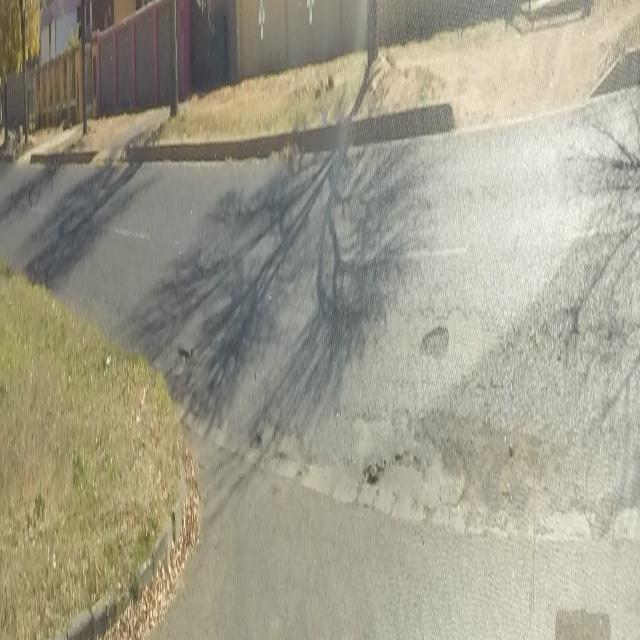pothole: (419, 318, 450, 364), (360, 454, 385, 494)
